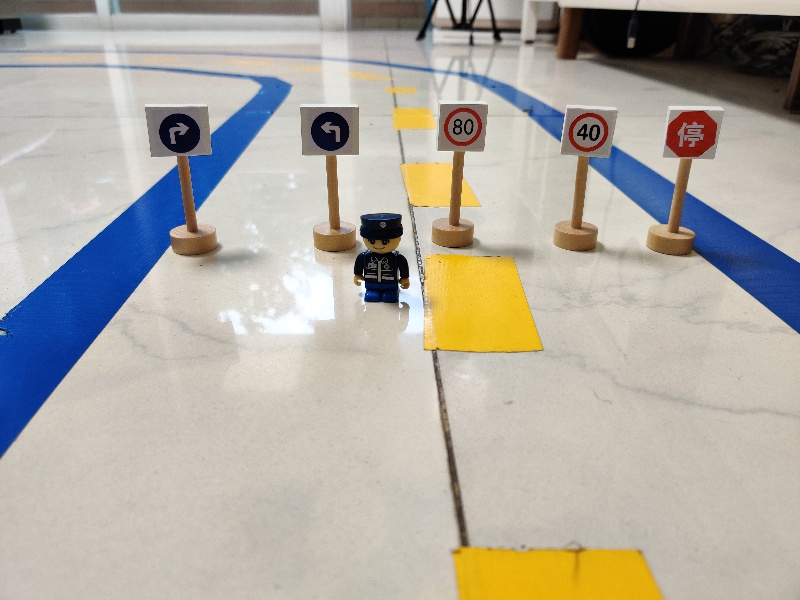limit_40: (560, 105, 620, 158)
limit_80: (435, 100, 489, 153)
person: (348, 206, 414, 308)
stop: (658, 104, 726, 163)
turn_left: (296, 101, 364, 158)
turn_right: (139, 101, 214, 159)
